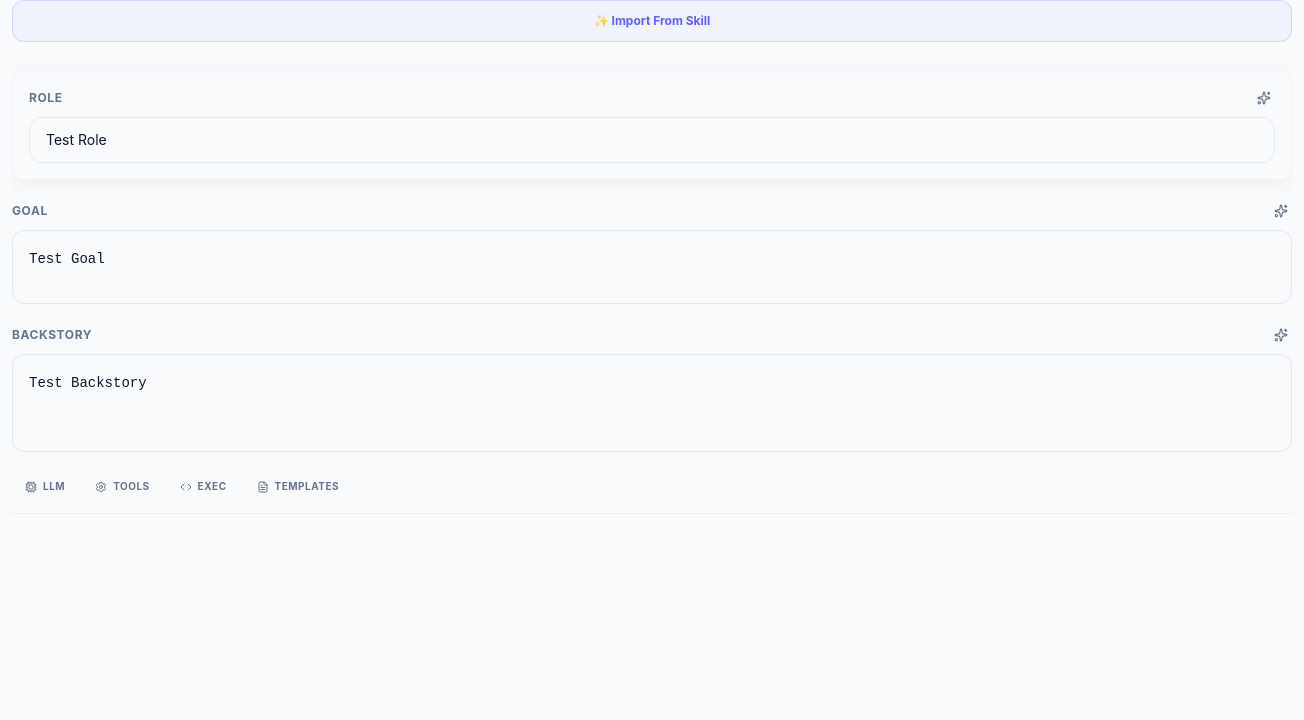
Test: AgentForm › renders Custom Tool selector content when open
This screenshot has width=1304, height=720.
Step 1. Click the button "Tools" → (122, 486), box [82,472,163,501]
(page scrolled)
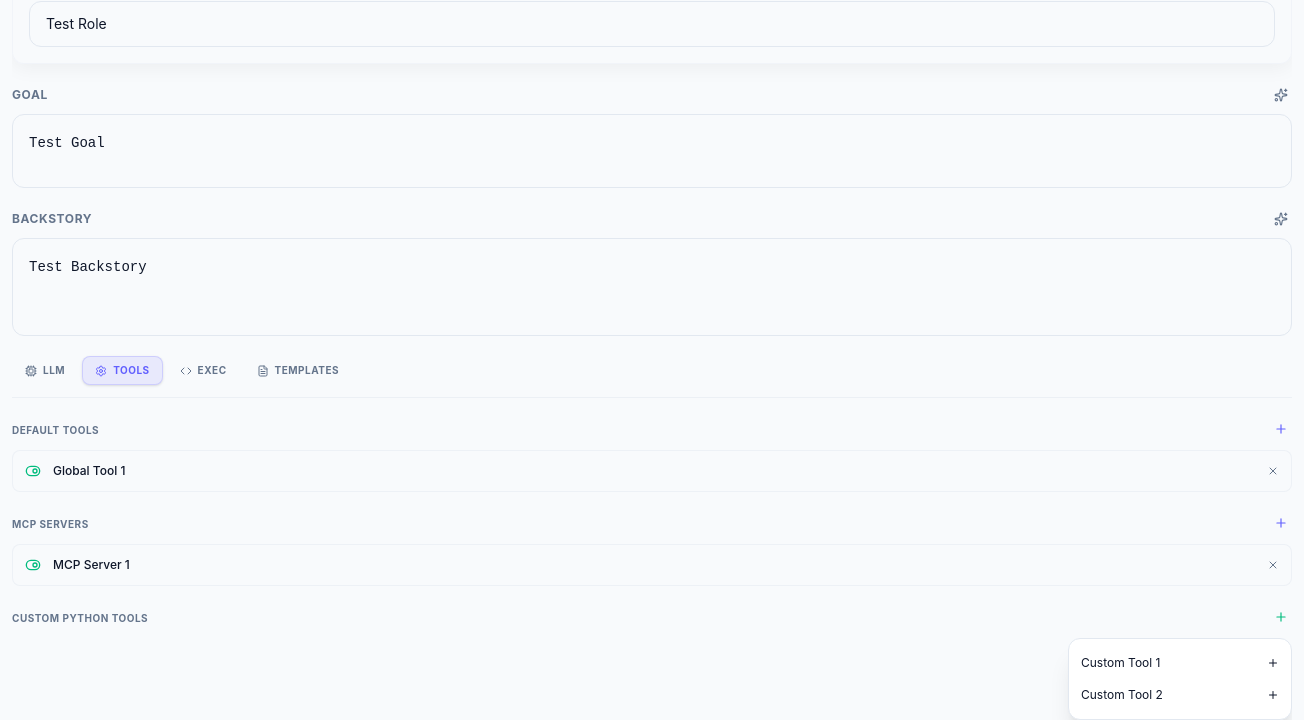
Expected: the button "Custom Tool 1" is shown, [1069,647,1291,679]
Expected: the button "Custom Tool 2" is shown, [1069,679,1291,711]
